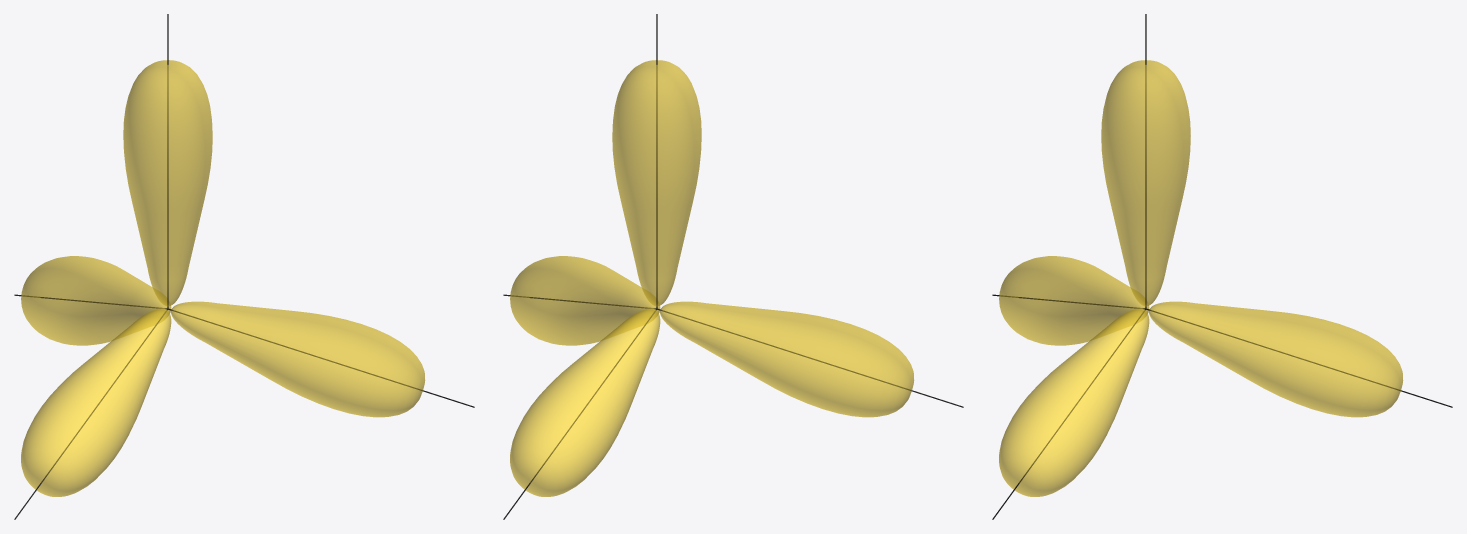
Rendered from sp3_hybridization.glb.
The picture shows the model from 3 angles, left to right: view 1: azimuth 30°, elevation 25°; view 2: azimuth 150°, elevation 25°; view 3: azimuth 270°, elevation 25°; orthographic projection.
Visible parts, largest first — view 1: Cylinder.004, Cylinder.005; view 2: Cylinder.004, Cylinder.005; view 3: Cylinder.004, Cylinder.005.
Part boxes in pixels (box(x1,y1,x2,y2)): Cylinder.004: box(21, 60, 425, 496); Cylinder.005: box(14, 14, 474, 519); Cylinder.004: box(510, 60, 914, 496); Cylinder.005: box(503, 14, 963, 519); Cylinder.004: box(999, 60, 1403, 496); Cylinder.005: box(992, 14, 1452, 519).
Bounding box in the file's own units: 1.99 × 1.65 × 1.73.
